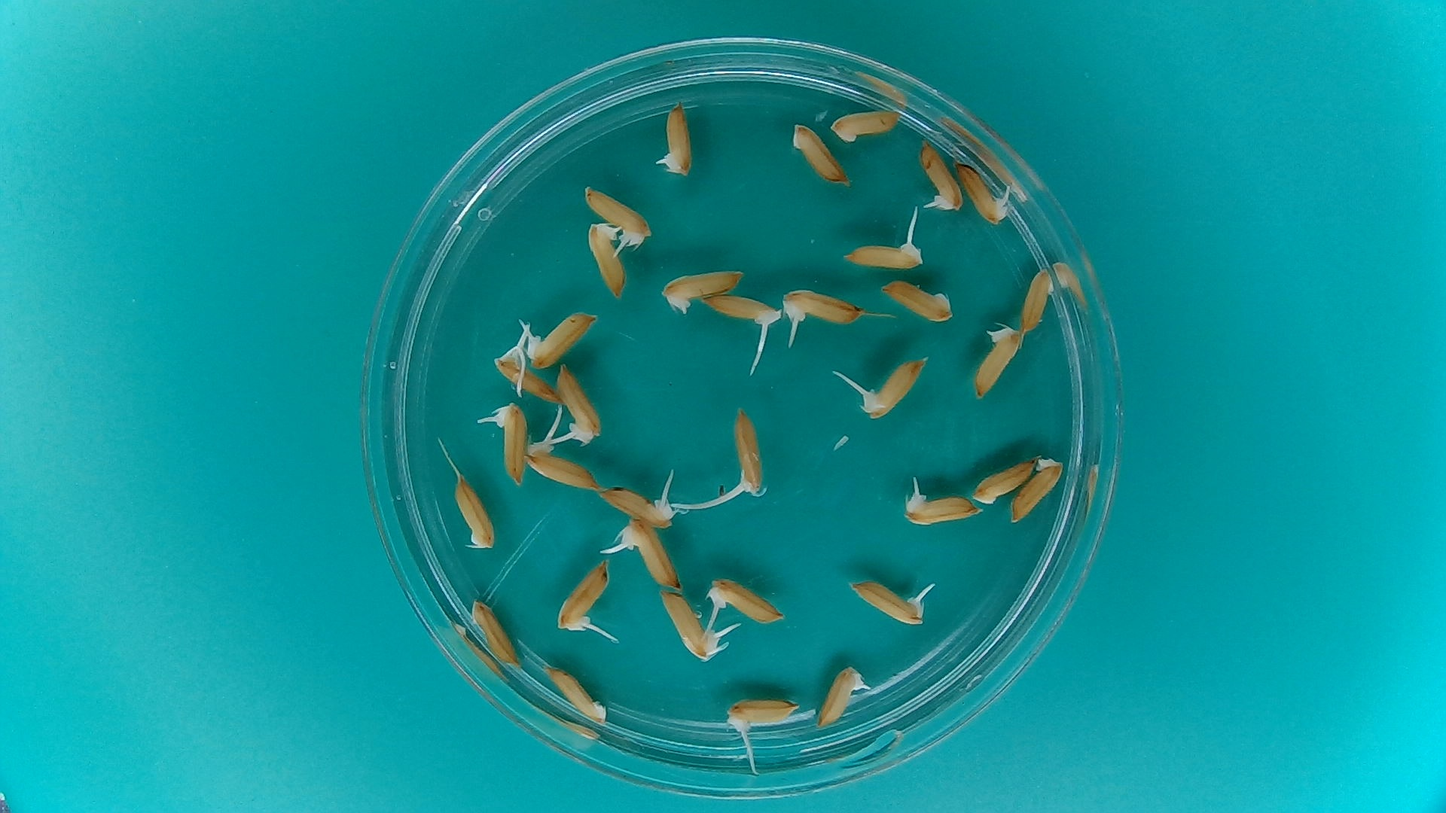no: (970, 319, 1027, 400), (541, 663, 608, 726), (659, 265, 746, 313), (790, 121, 851, 188), (452, 472, 499, 553), (1011, 455, 1066, 523), (877, 278, 956, 324), (470, 597, 519, 668), (971, 458, 1038, 505), (828, 105, 902, 144), (1018, 264, 1057, 336)
yes: (660, 591, 728, 661), (553, 556, 612, 635), (862, 352, 926, 421), (581, 187, 654, 246), (557, 360, 606, 445), (850, 576, 934, 625), (527, 311, 597, 369), (953, 158, 1013, 225), (623, 518, 681, 587), (518, 445, 601, 492), (705, 575, 786, 623), (917, 136, 964, 216), (485, 402, 527, 487), (584, 223, 628, 301), (729, 408, 767, 498), (493, 357, 563, 405), (816, 668, 868, 729), (599, 485, 676, 526), (700, 291, 783, 329), (844, 238, 927, 271), (722, 694, 800, 729), (904, 492, 984, 526), (786, 292, 861, 327), (660, 103, 695, 178)
